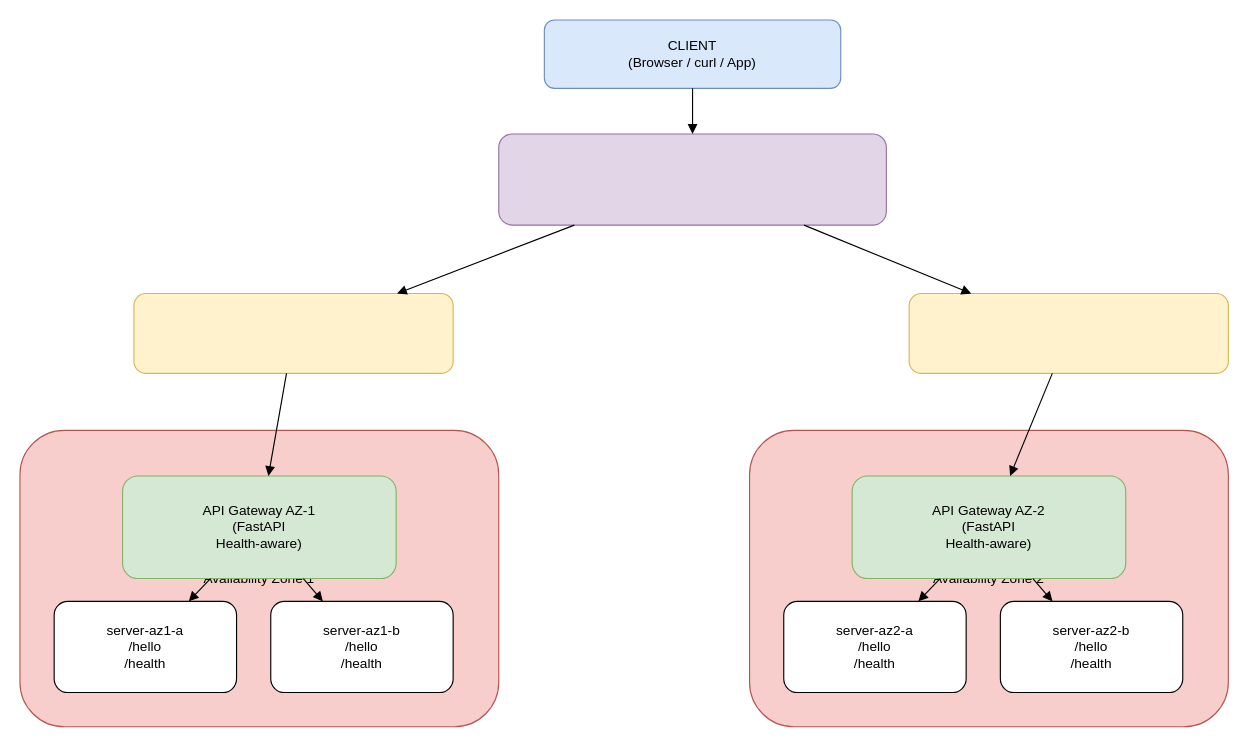
The diagram is 1248 pixels wide and 747 high, and some of its shapes have lost their labels. Here are the shapes that lost their labels. From the top down, the centre of each, then its label:
(692,179): Docker DNS api.demo.local (multiple A records)
(293,332): Load Balancer A nginx-region-a
(1068,332): Load Balancer B nginx-region-b
